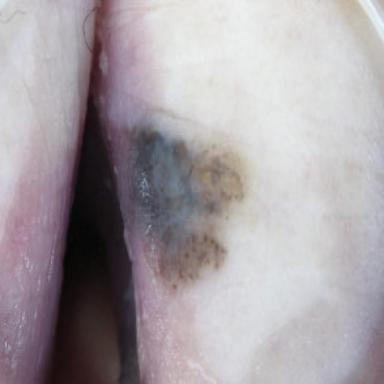Melanoma: (121, 120, 255, 296)
